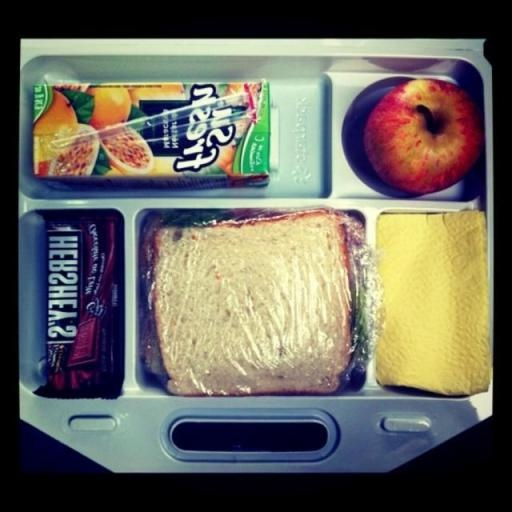fruit: (364, 80, 483, 194), (48, 124, 98, 175), (101, 128, 153, 174), (33, 91, 76, 135), (87, 86, 130, 129), (128, 84, 184, 105), (215, 144, 235, 174)
